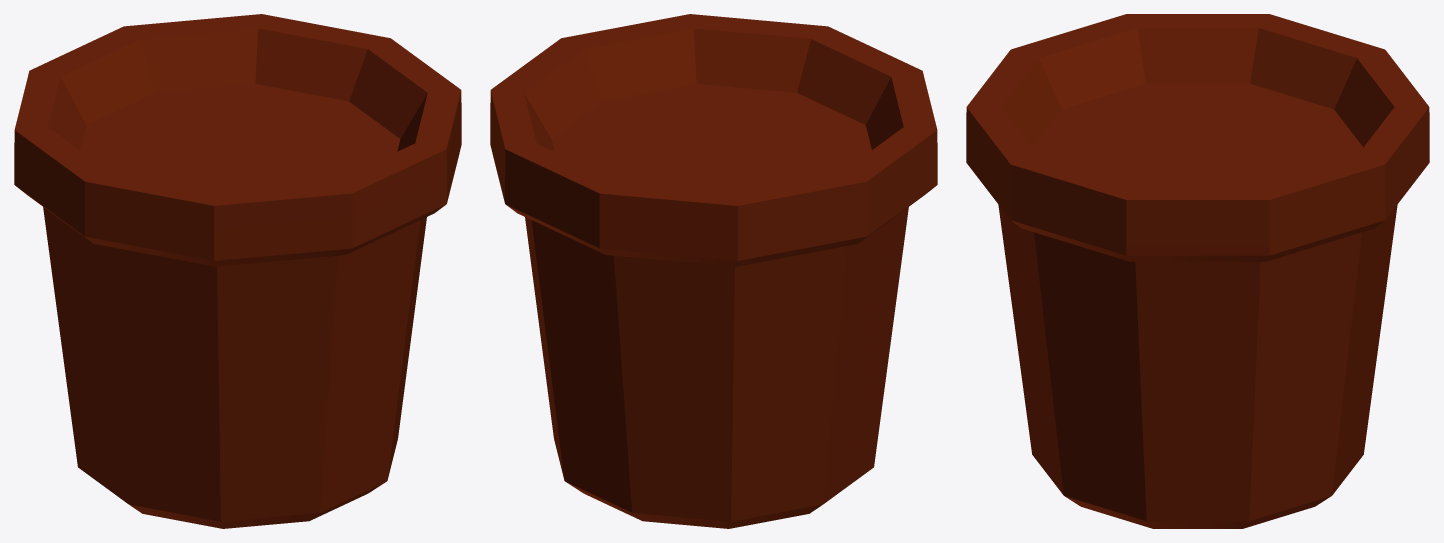
The model's file is Vaso1.fbx.
3 renders of one model, left to right at view 1: azimuth 30°, elevation 25°; view 2: azimuth 150°, elevation 25°; view 3: azimuth 270°, elevation 25°, orthographic.
Visible parts, largest first — view 1: Vaso1; view 2: Vaso1; view 3: Vaso1.
Boxes of the visible parts, x1=… form: Vaso1: x1=14, y1=14, x2=461, y2=528; Vaso1: x1=490, y1=14, x2=937, y2=528; Vaso1: x1=966, y1=14, x2=1429, y2=528.
Size of the model in its own units: 36.45 by 33.2 by 38.33.
1 material, 1 textured.
